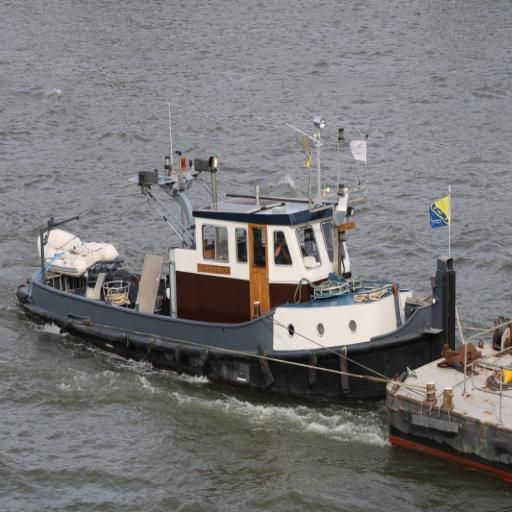tugboat: (15, 96, 468, 419)
